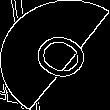O_SE: (17, 23, 93, 87)
